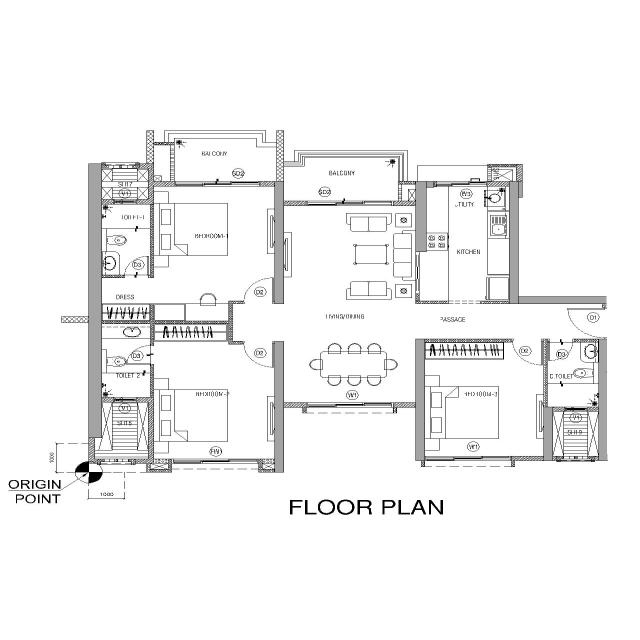Column: (87, 162, 103, 439), (273, 341, 285, 474), (274, 180, 286, 305), (414, 338, 426, 462), (598, 338, 608, 462), (509, 181, 519, 304), (414, 180, 428, 253), (517, 296, 607, 304), (543, 406, 553, 462), (518, 180, 524, 198), (425, 180, 435, 188)
Door: (601, 306, 608, 340), (241, 340, 276, 346), (510, 338, 544, 343), (241, 300, 275, 305), (122, 274, 151, 279), (546, 338, 574, 343), (149, 344, 155, 366)
Sliding Door: (174, 180, 262, 188), (305, 200, 395, 207)
Ventilator: (112, 396, 138, 404), (112, 198, 138, 205), (563, 406, 589, 412)
Window: (424, 454, 512, 462), (306, 402, 392, 408), (432, 180, 488, 188)
